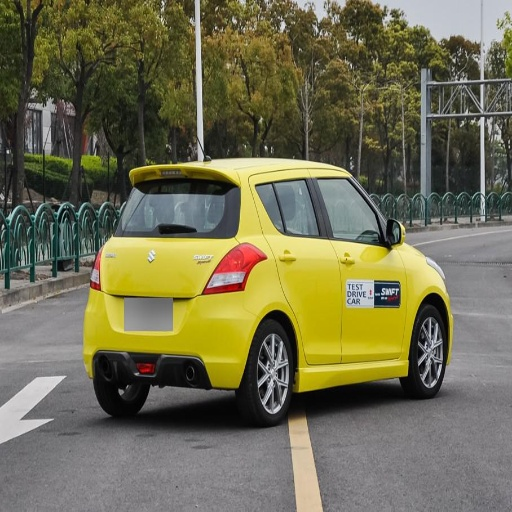back_bumper: (84, 290, 258, 387)
back_right_door: (262, 171, 340, 363)
trunk: (91, 239, 221, 331)
